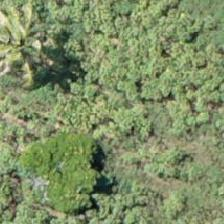coconut_tree: (0, 5, 58, 95)
